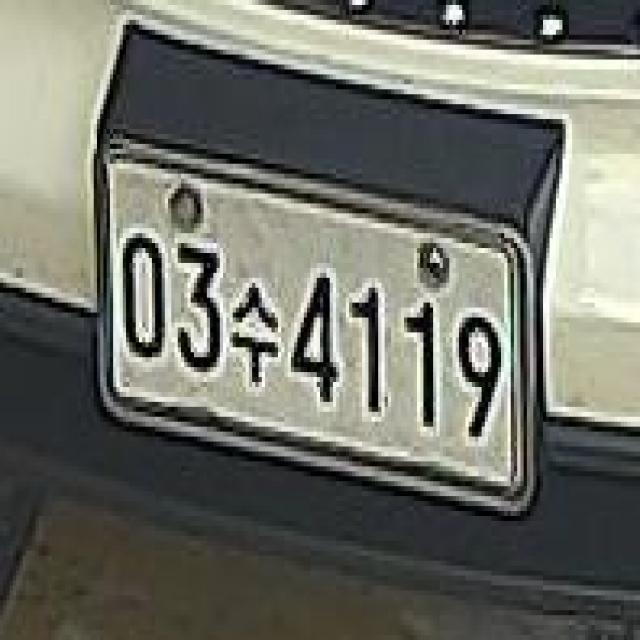illegal_plate: (92, 136, 540, 527)
